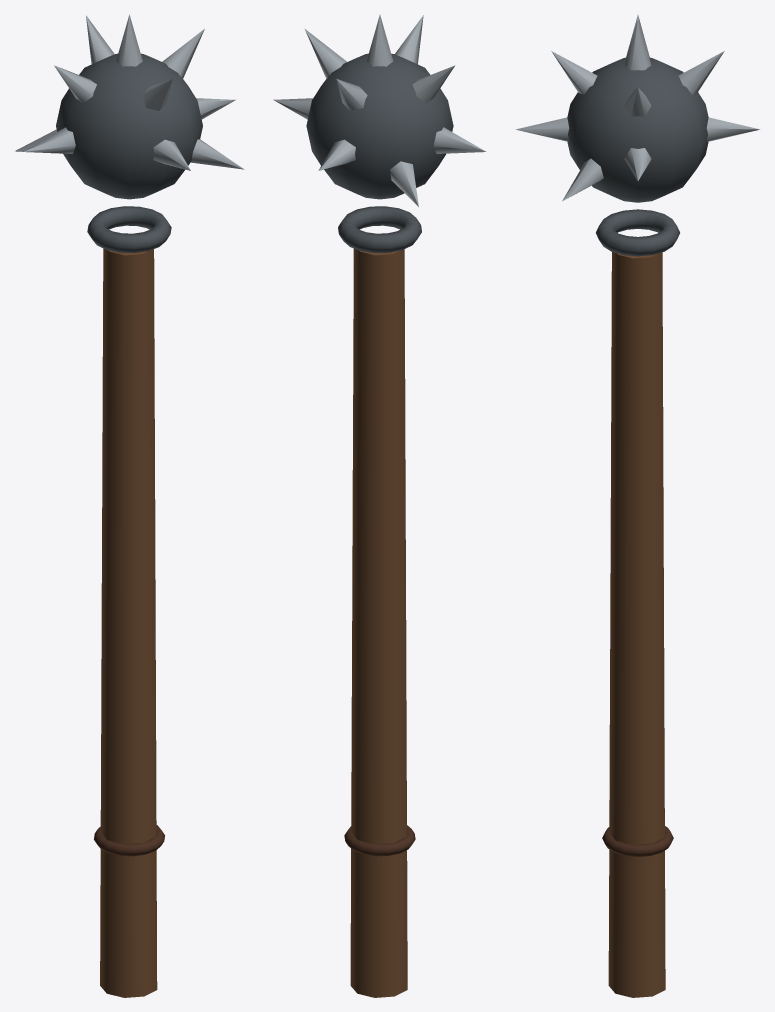
Rendered from morningstar.glb.
3 renders of one model, left to right at view 1: azimuth 30°, elevation 25°; view 2: azimuth 150°, elevation 25°; view 3: azimuth 270°, elevation 25°, orthographic.
Parts seen in each view (by area): view 1: morningstar-grip, morningstar-head, morningstar-spike (×8), morningstar-collar, morningstar-grip-wrap; view 2: morningstar-grip, morningstar-head, morningstar-spike (×8), morningstar-collar, morningstar-grip-wrap; view 3: morningstar-grip, morningstar-head, morningstar-spike (×7), morningstar-collar, morningstar-grip-wrap.
Boxes of the visible parts, bbox=[...] form: morningstar-grip: bbox=[100, 248, 157, 997]; morningstar-head: bbox=[56, 53, 202, 199]; morningstar-spike (×8): bbox=[23, 14, 244, 170]; morningstar-collar: bbox=[87, 206, 171, 252]; morningstar-grip-wrap: bbox=[94, 825, 164, 856]; morningstar-grip: bbox=[350, 248, 407, 997]; morningstar-head: bbox=[306, 53, 453, 199]; morningstar-spike (×8): bbox=[304, 15, 486, 206]; morningstar-collar: bbox=[338, 206, 421, 252]; morningstar-grip-wrap: bbox=[344, 825, 415, 856]; morningstar-grip: bbox=[608, 252, 665, 997]; morningstar-head: bbox=[567, 57, 708, 202]; morningstar-spike (×7): bbox=[515, 19, 760, 201]; morningstar-collar: bbox=[596, 209, 679, 256]; morningstar-grip-wrap: bbox=[602, 826, 673, 856].
Size of the model in its own units: 0.1174 by 0.5098 by 0.1174.
